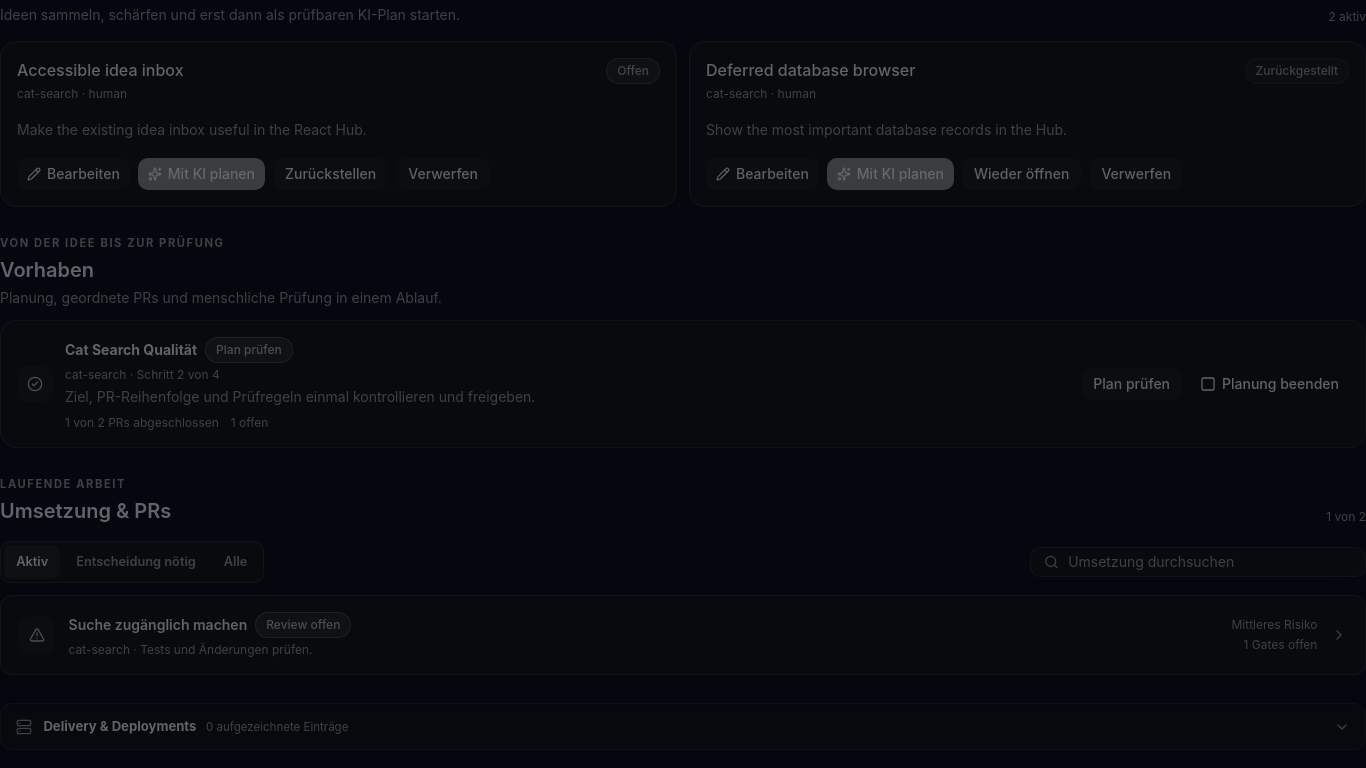
it: AutomationPage › reloads readiness when the exact viewed signature is stale
This screenshot has width=1366, height=768.
(page scrolled)
What coordinates should you click on to do the following:
click the button "Plan prüfen"
I would click on:
 (1132, 384)
Its box is [1081,368,1182,400].
(page scrolled)
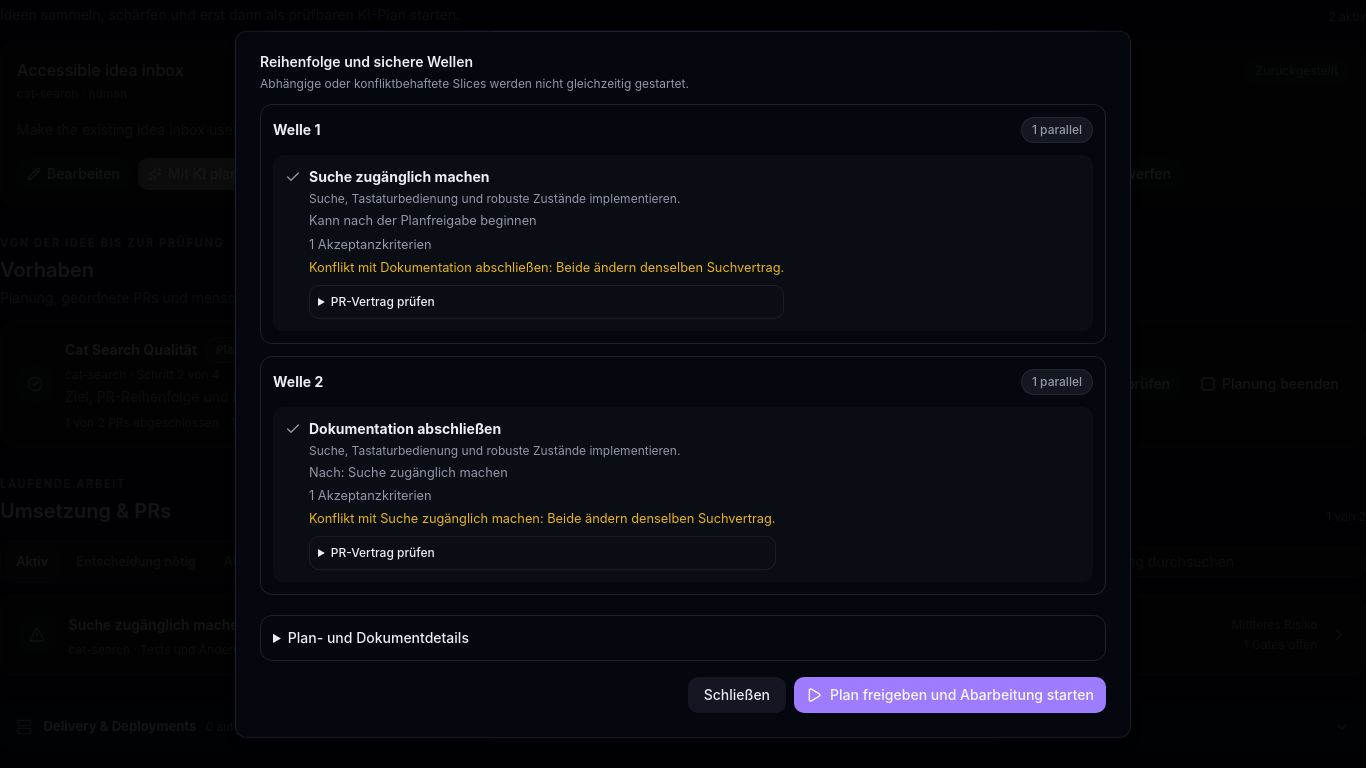
What coordinates should you click on to do the following:
click the button "Plan freigeben und Abarbeitung starten"
I would click on:
 (950, 695)
Its box is [794,677,1106,713].
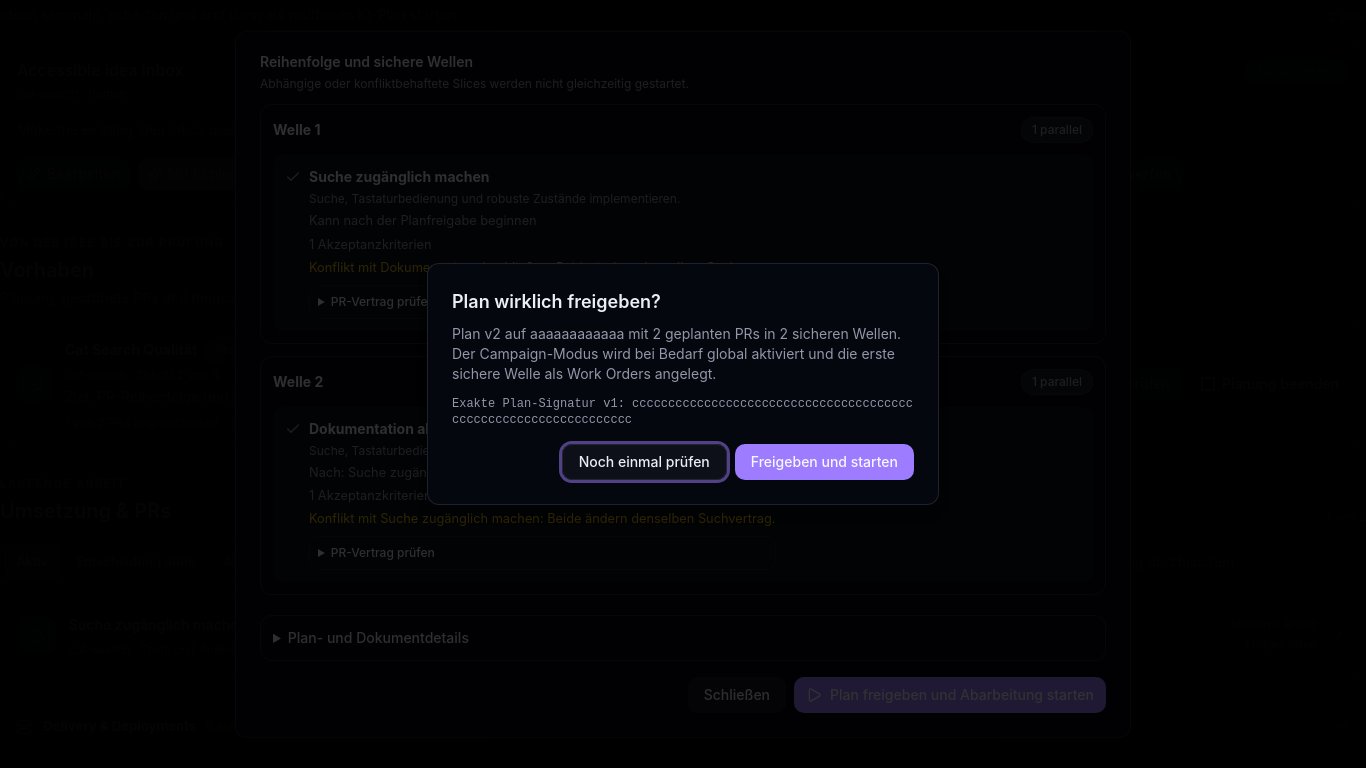
What coordinates should you click on to do the following:
click the button "Freigeben und starten"
I would click on:
 (824, 462)
Its box is [735,444,914,480].
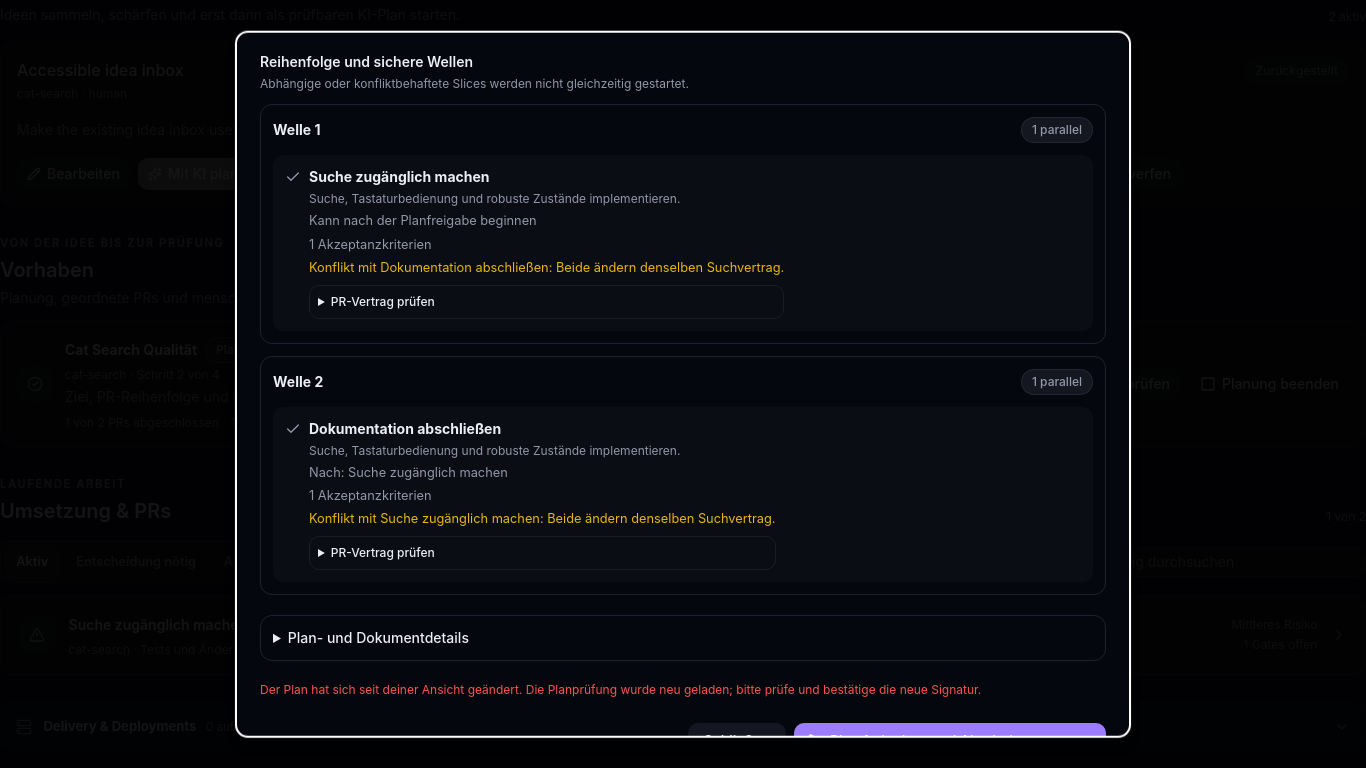
Check: the dialog "Plan prüfen:" is shown
Check: the text "seit deiner Ansicht geändert" is shown, box [260,682,981,697]
